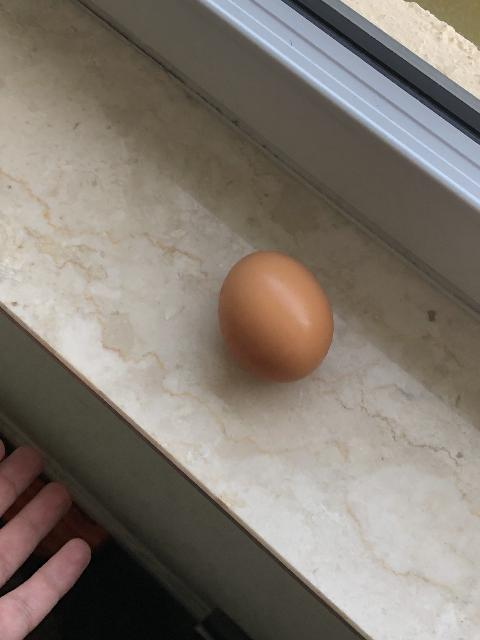Sano: (216, 249, 335, 383)
